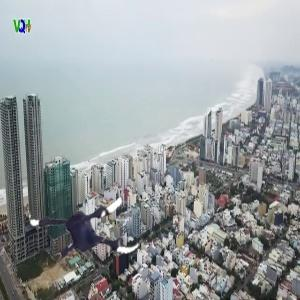drone: (31, 166, 148, 283)
